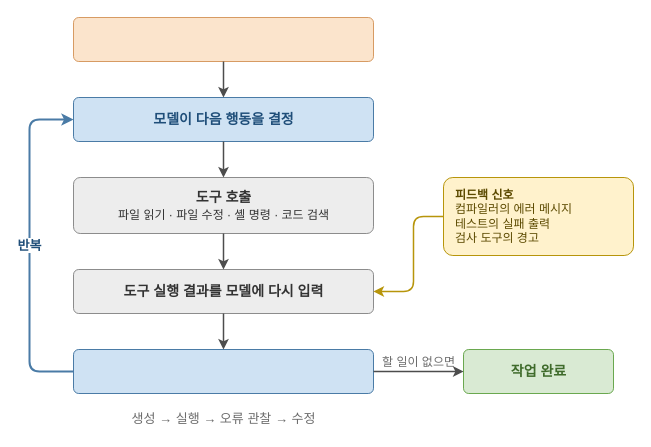
Image size: 651x447. Some labels were removed from this diagram. Each missing label, with the centre of its shape:
"결과를 보고 다음 행동을 결정" belongs at [223,371].
"사용자 요청" belongs at [223,39].
